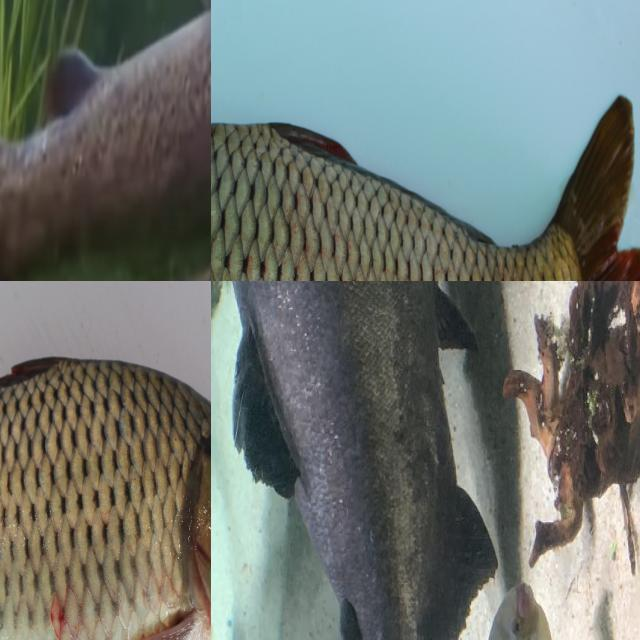fish: (211, 47, 640, 281), (216, 281, 493, 640), (0, 311, 211, 640), (0, 0, 211, 281)
